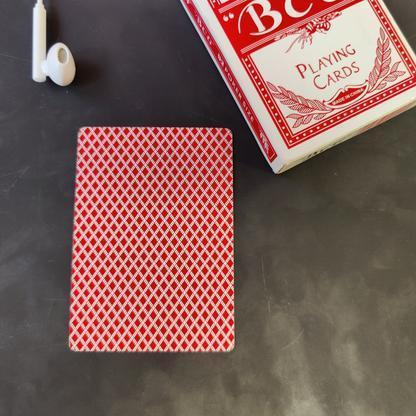card: (64, 115, 240, 358)
